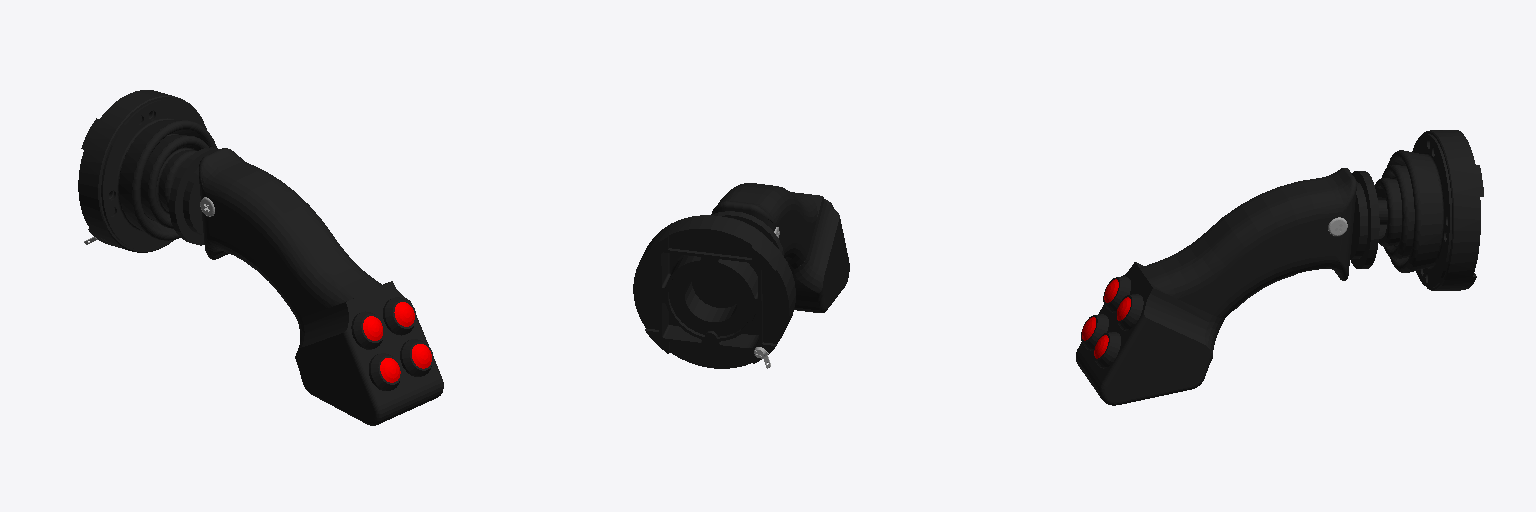
The model's file is Joystick.obj.
3 renders of one model, left to right at view 1: azimuth 30°, elevation 25°; view 2: azimuth 150°, elevation 25°; view 3: azimuth 270°, elevation 25°, orthographic.
Parts seen in each view (by area): view 1: Body1:1, Body1; view 2: Body1, Body1:1; view 3: Body1:1, Body1.
Boxes of the visible parts, box(x1,y1,x2,y2) form: Body1:1: box(169, 147, 443, 425); Body1: box(78, 90, 216, 252); Body1: box(633, 215, 795, 368); Body1:1: box(711, 183, 849, 312); Body1:1: box(1076, 168, 1379, 405); Body1: box(1375, 130, 1483, 290).
Bounding box in the file's own units: 10.68 × 10.81 × 19.04.